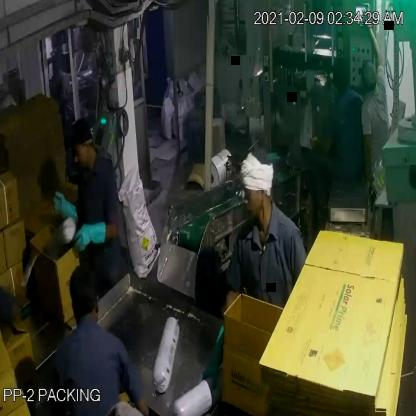glove: (194, 320, 230, 387), (68, 218, 114, 259), (51, 189, 84, 231)
